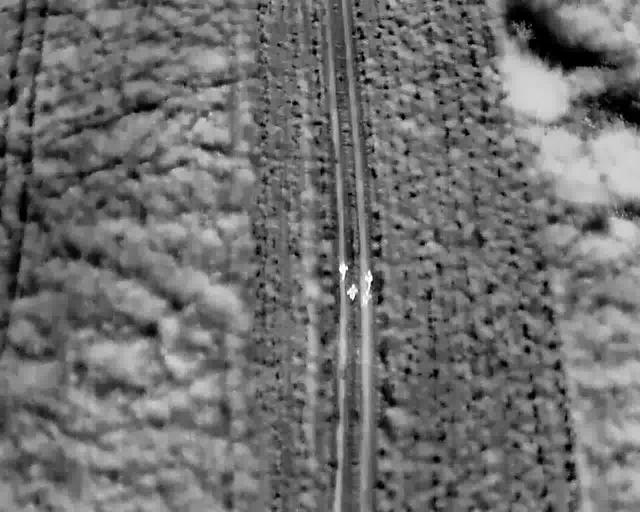person: (345, 283, 358, 301), (360, 289, 371, 310), (363, 270, 373, 291), (338, 262, 348, 281)
